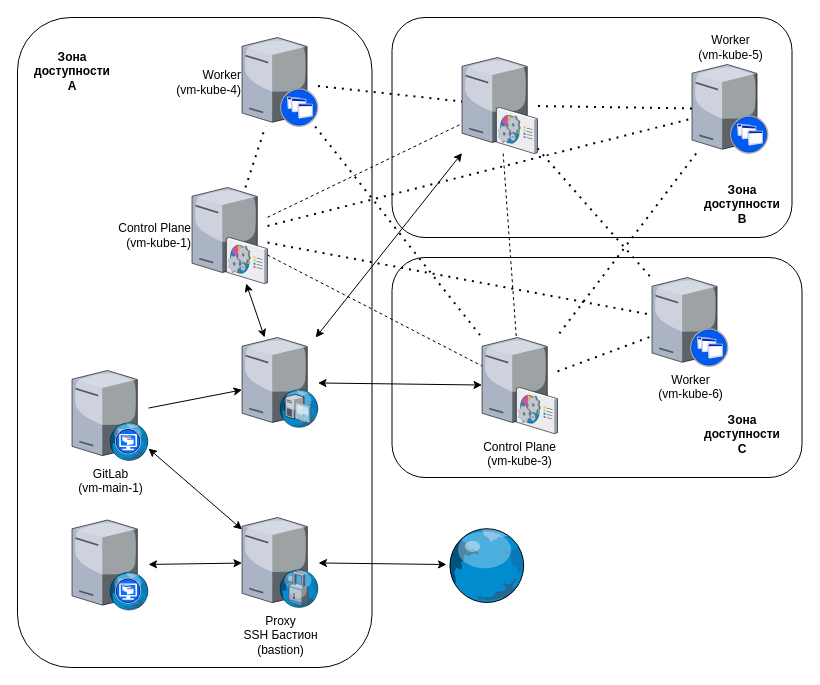
The diagram is 820 pixels wide and 685 high, and some of its shapes have lost their labels. Here are the shapes that lost their labels. From the top down, the centre of each, then its label:
At pixel 499 105: "Control Plane (vm-kube-2)".
At pixel 280 382: "kubectl proxy gitlab runner (vm-main-3)".
At pixel 110 565: "Grafana InfluxDB (vm-main-2)".
At pixel 485 564: "Интернет".
